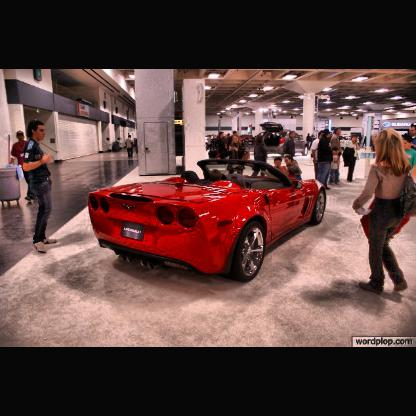Chevrolet Corvette Convertible 2012: (85, 155, 332, 285)
